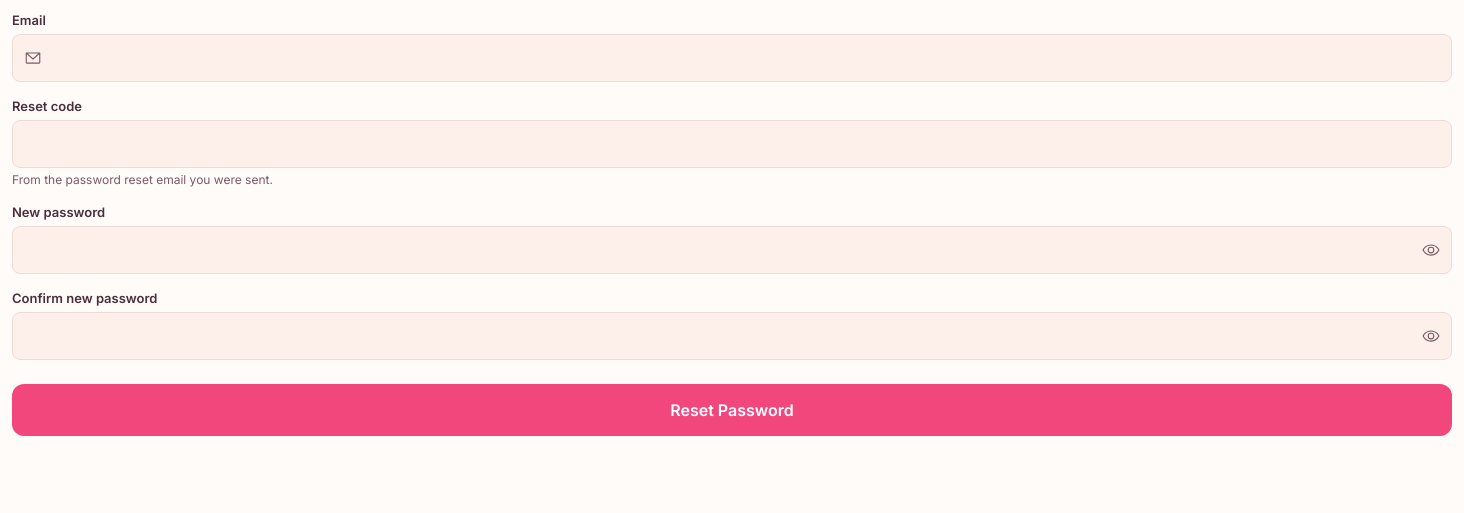
Test: ResetPasswordForm › rejects an empty submission
The width and height of the screenshot is (1464, 513).
Click the button named "Reset Password".
click(732, 410)  # box [12,384,1452,436]
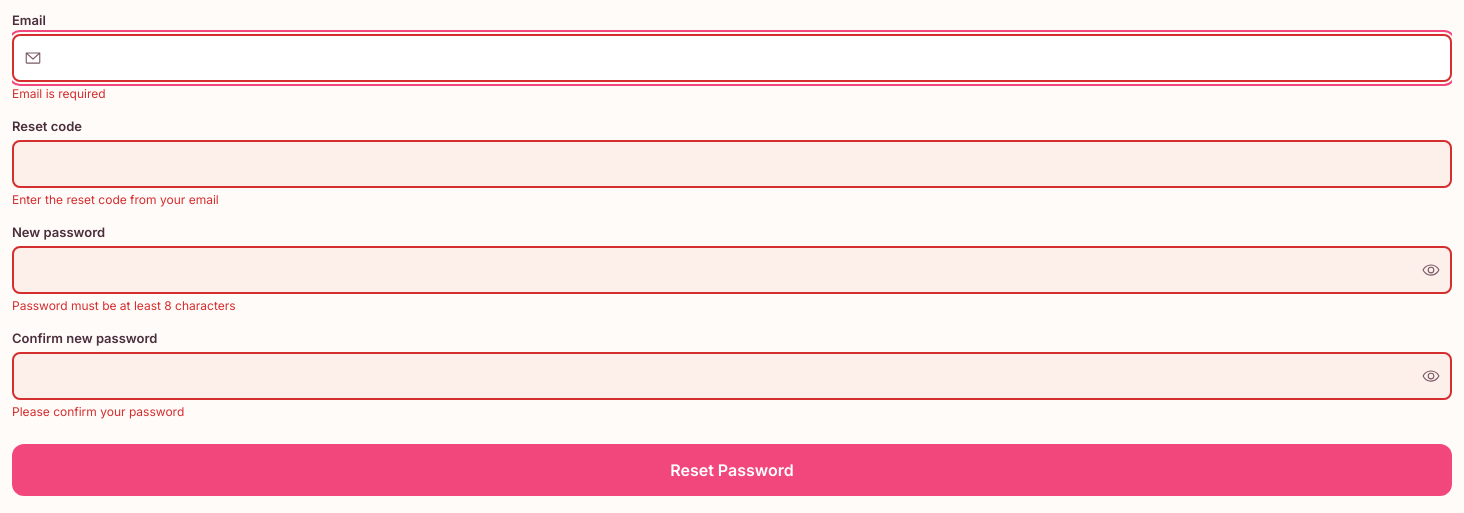
Now the text "Email is required" is shown, box [12,86,106,101]
Now the text "Enter the reset code from your email" is shown, box [12,192,219,207]
